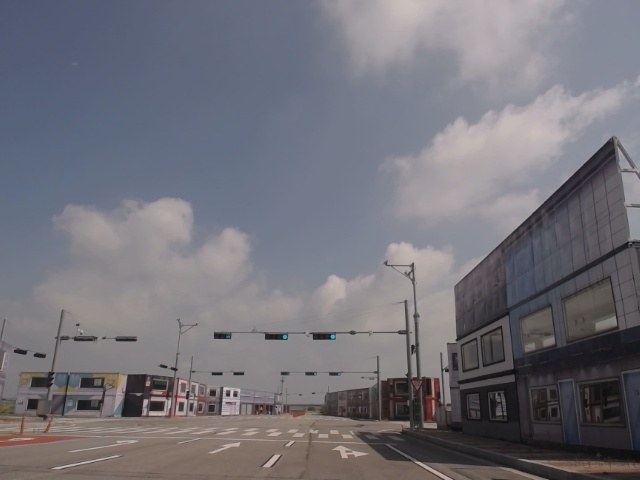straight_green_4: (311, 330, 337, 341), (264, 331, 289, 342)
